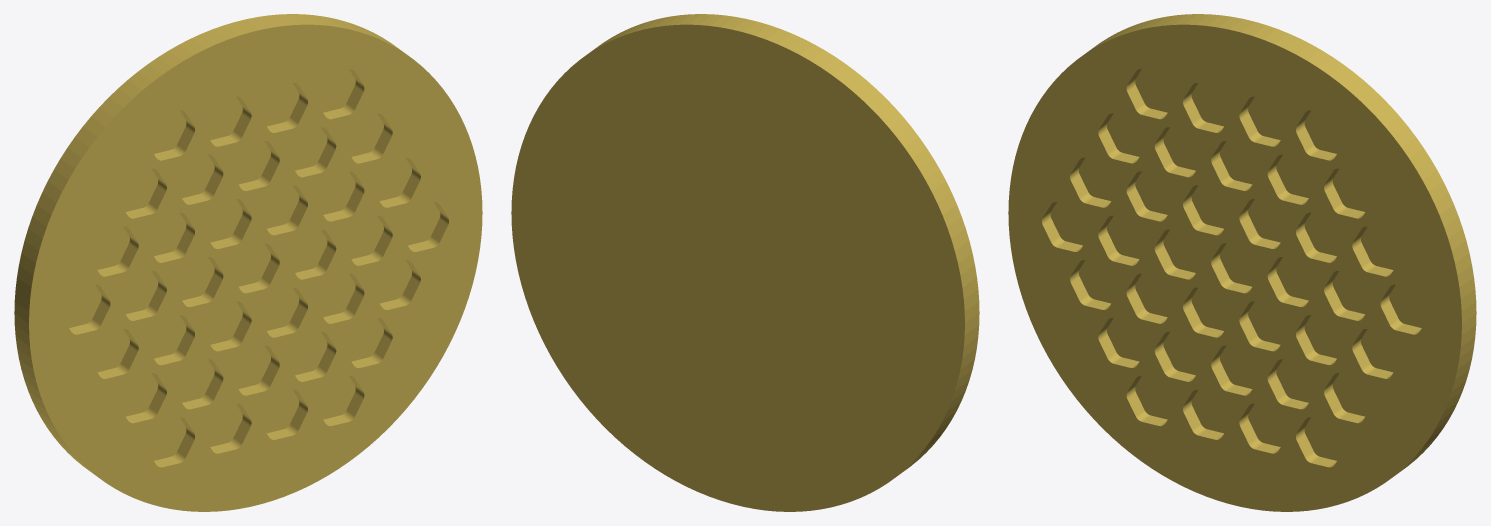
The model's file is 02_honeycomb_coaster.glb.
3 views of the same model, side by side, from view 1: azimuth 30°, elevation 25°; view 2: azimuth 150°, elevation 25°; view 3: azimuth 330°, elevation 25° (orthographic).
Parts seen in each view (by area): view 1: 02_honeycomb_coaster.stl; view 2: 02_honeycomb_coaster.stl; view 3: 02_honeycomb_coaster.stl.
Boxes of the visible parts, bbox=[...] form: 02_honeycomb_coaster.stl: bbox=[14, 14, 482, 511]; 02_honeycomb_coaster.stl: bbox=[511, 14, 979, 511]; 02_honeycomb_coaster.stl: bbox=[1008, 14, 1476, 511].
Size of the model in its own units: 90 by 89.97 by 5.
